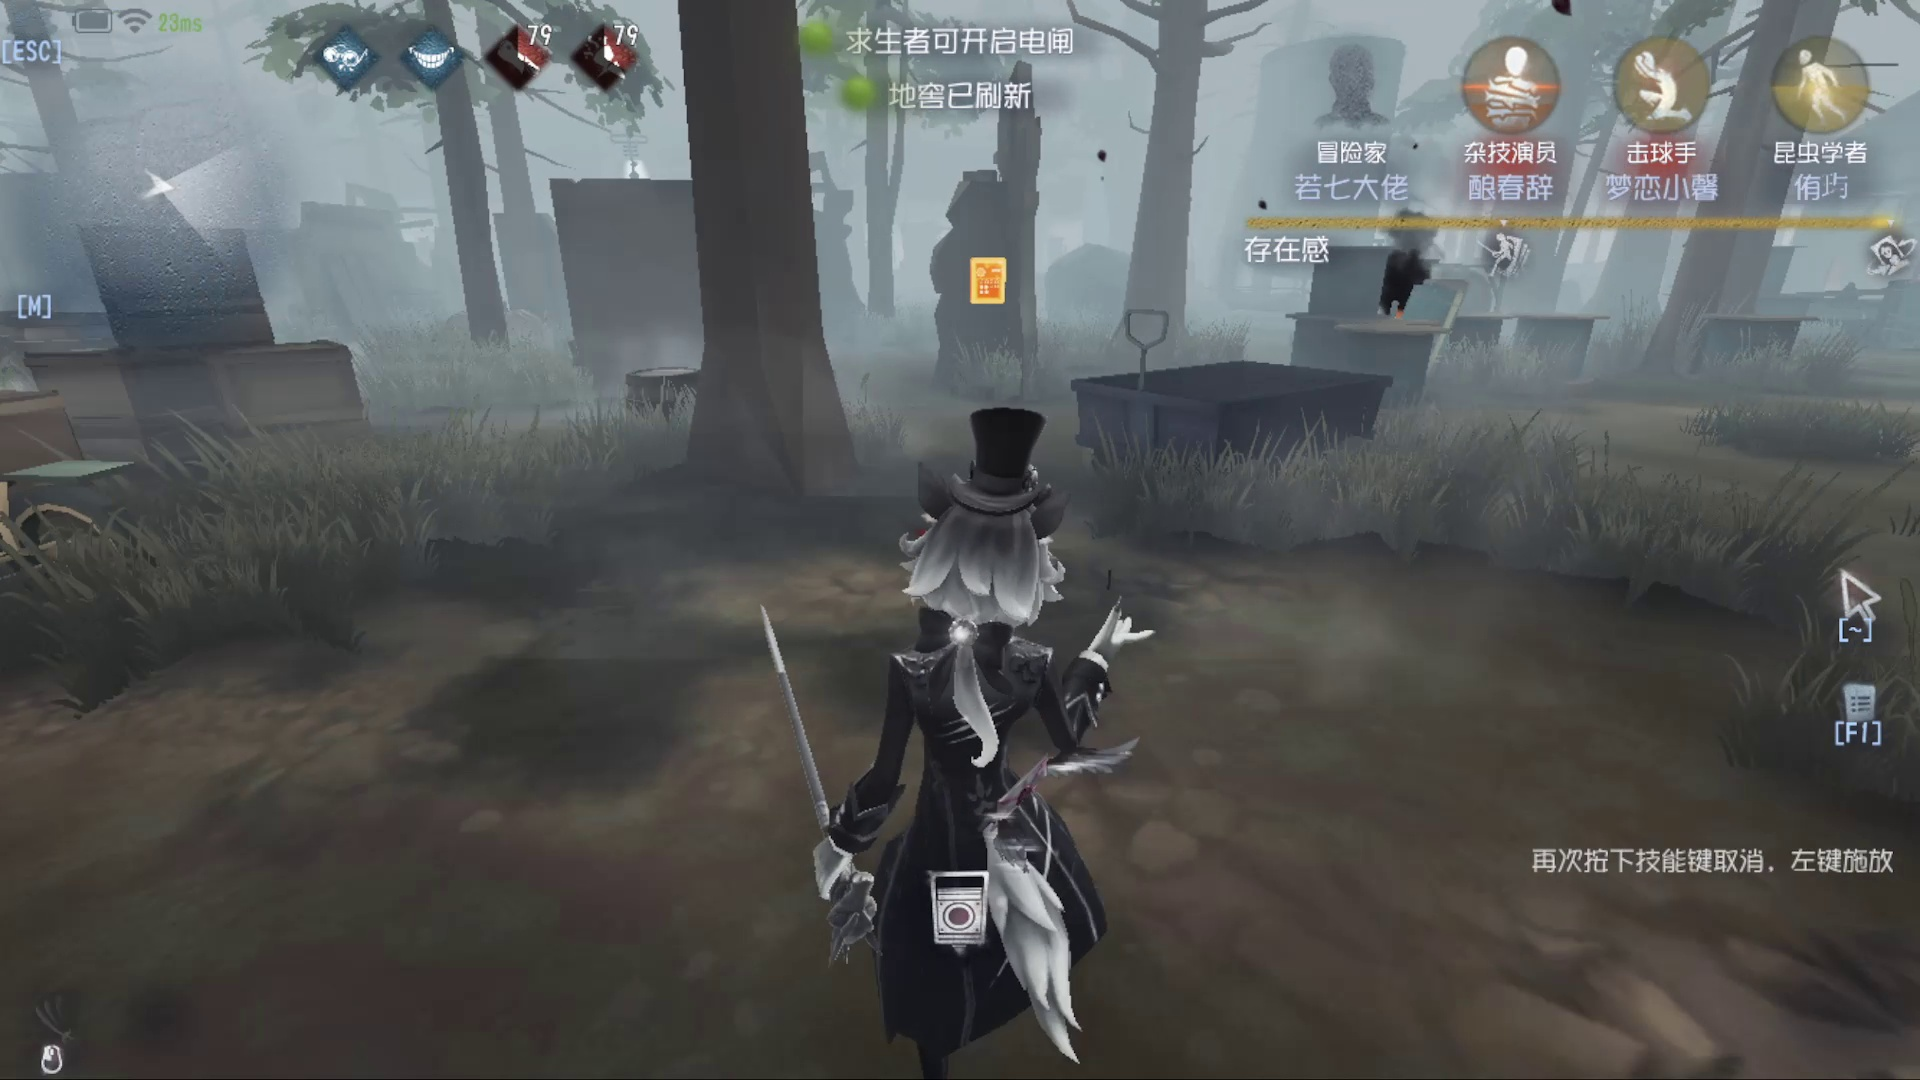木板: (1382, 264, 1462, 353)
